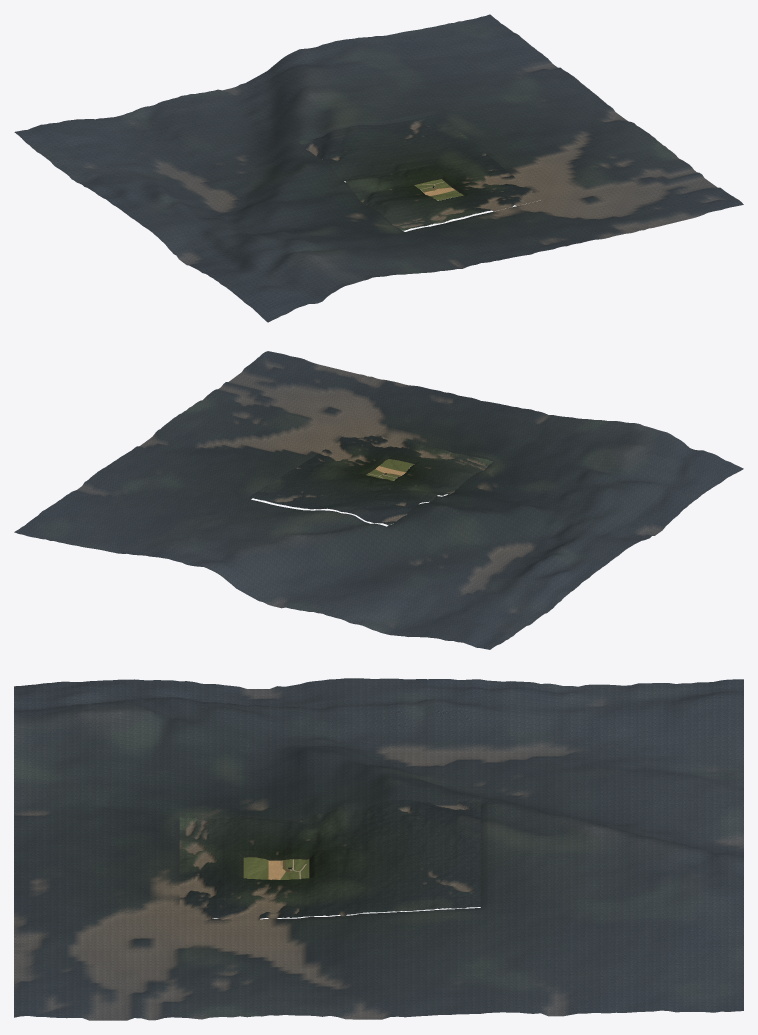
File: tontti4_hd.glb
The picture shows the model from 3 angles, top to bottom: view 1: azimuth 30°, elevation 25°; view 2: azimuth 150°, elevation 25°; view 3: azimuth 270°, elevation 25°; orthographic projection. The views are drawn at different scales.
Parts seen in each view (by area): view 1: maasto_tausta_2, maasto_tausta_1, maasto; view 2: maasto_tausta_2, maasto_tausta_1, maasto; view 3: maasto_tausta_2, maasto_tausta_1, maasto.
Boxes of the visible parts, x1,y1,x2,y2 form: maasto_tausta_2: [14, 14, 743, 322]; maasto_tausta_1: [299, 113, 542, 230]; maasto: [415, 179, 463, 200]; maasto_tausta_2: [14, 351, 743, 649]; maasto_tausta_1: [249, 430, 493, 525]; maasto: [366, 459, 414, 480]; maasto_tausta_2: [14, 678, 743, 1020]; maasto_tausta_1: [179, 799, 480, 920]; maasto: [243, 857, 309, 879].
Bounding box in the file's own units: 4200 × 230 × 3880.
Materials: 66 (2 with a texture image).
